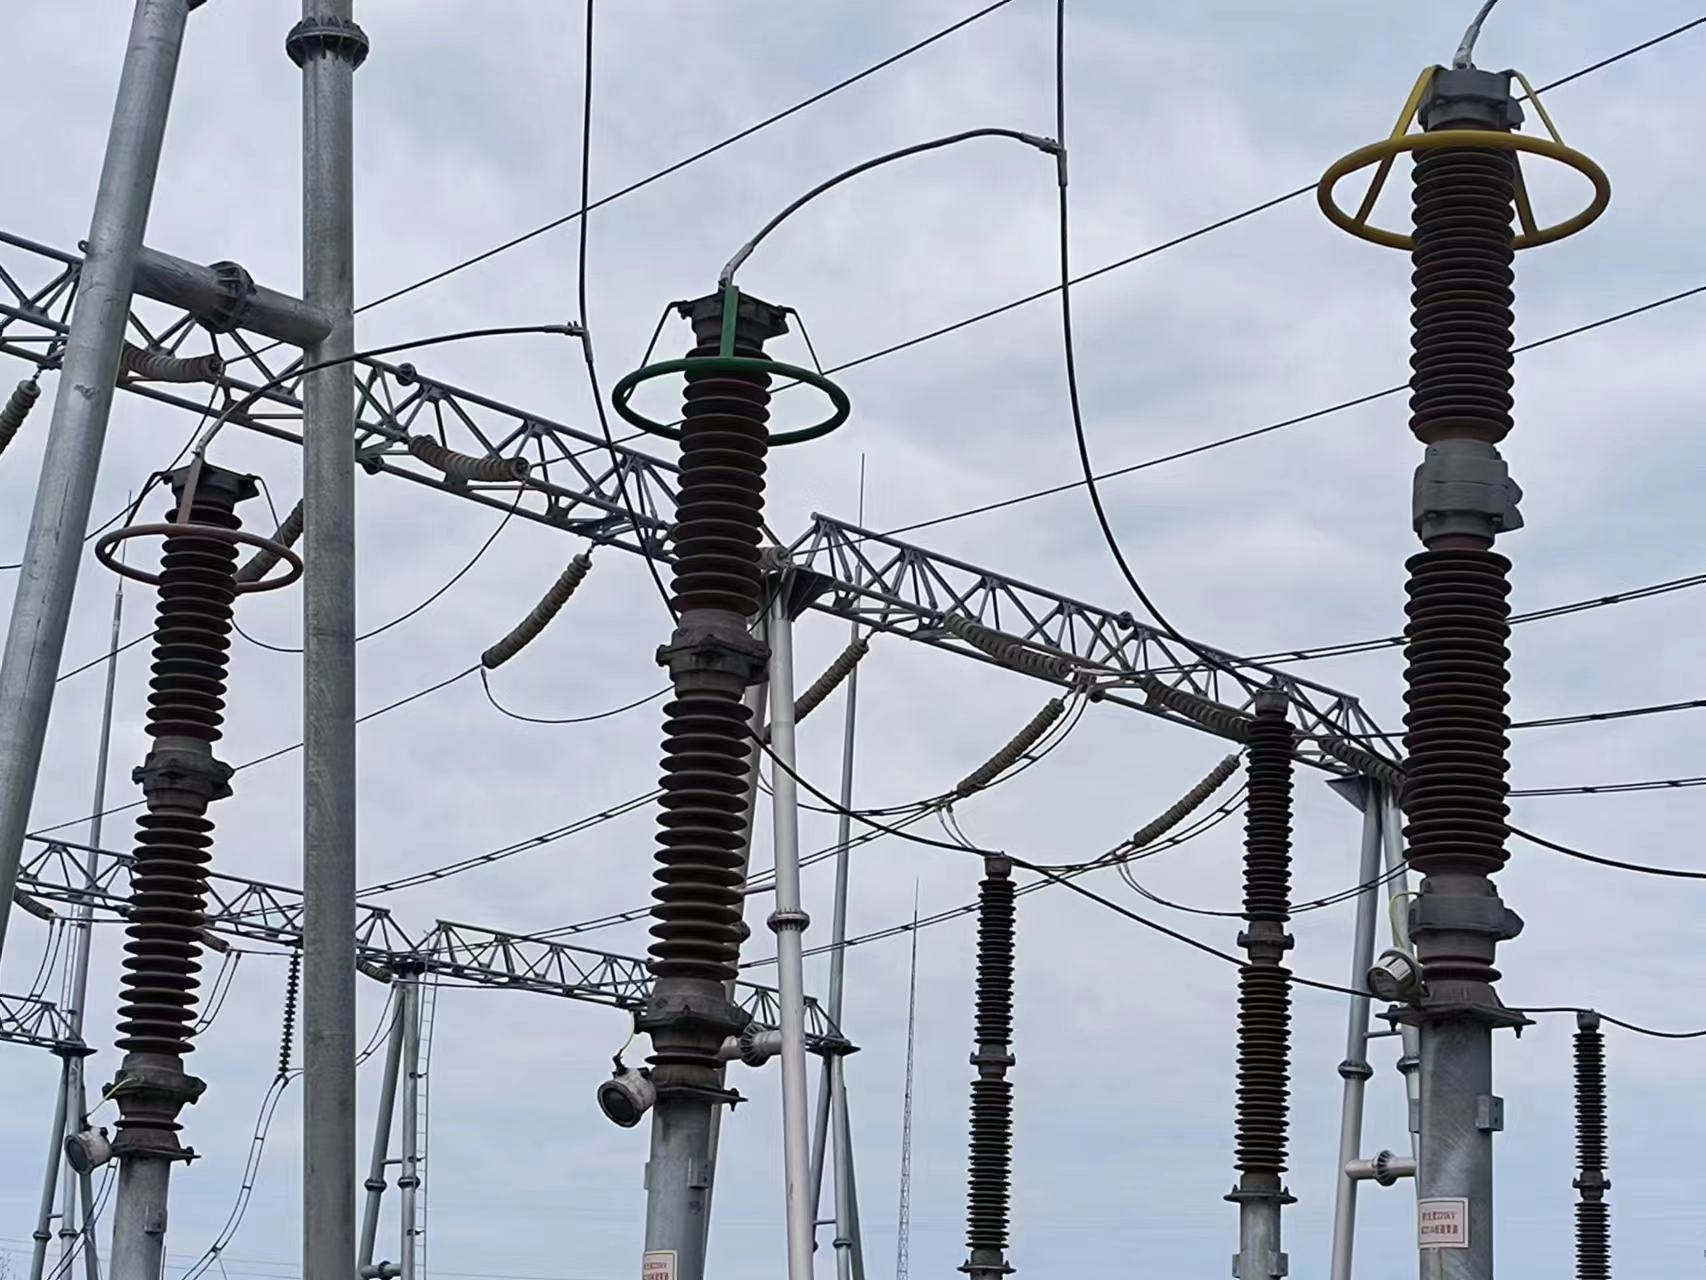Arrester: (1315, 70, 1615, 959), (608, 286, 852, 1041), (93, 458, 304, 1131)
